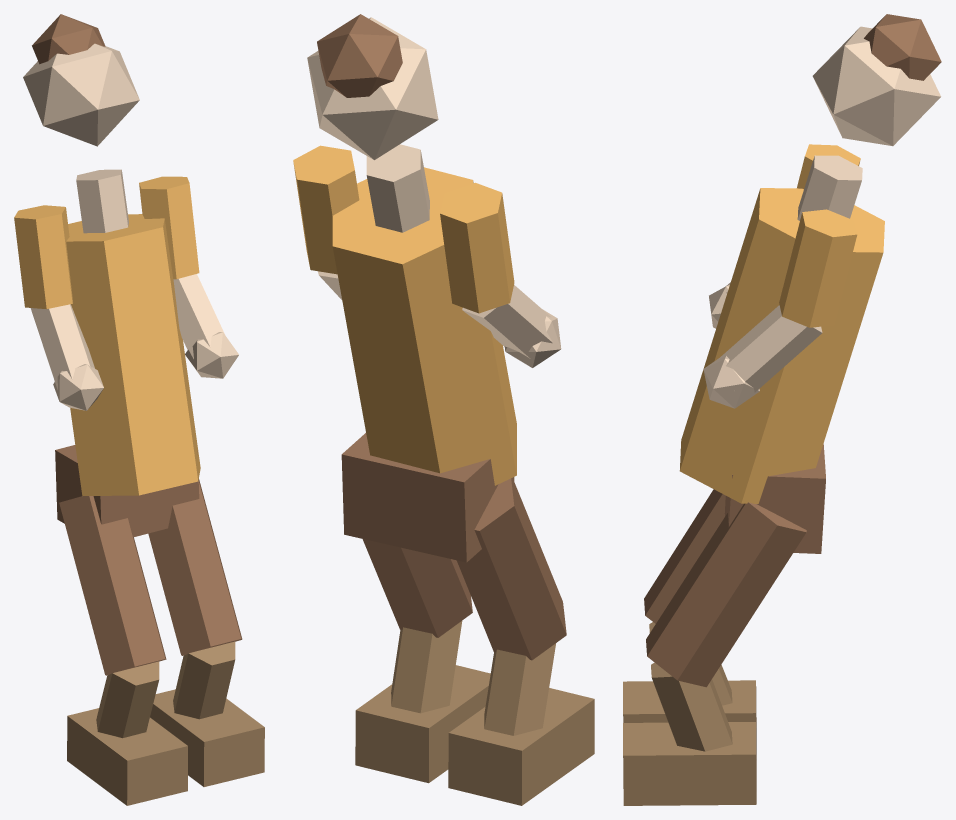
File: pose_hit_light_09.glb
The picture shows the model from 3 angles, left to right: view 1: azimuth 30°, elevation 25°; view 2: azimuth 150°, elevation 25°; view 3: azimuth 270°, elevation 25°; orthographic projection. The views are drawn at different scales.
Visible parts, largest first — view 1: pose; view 2: pose; view 3: pose.
Part boxes in pixels (left/top/right/bottom): pose: left=14, top=14, right=264, bottom=805; pose: left=293, top=14, right=594, bottom=805; pose: left=623, top=14, right=941, bottom=805.
Bounding box in the file's own units: 0.4027 × 1.49 × 0.5753.
